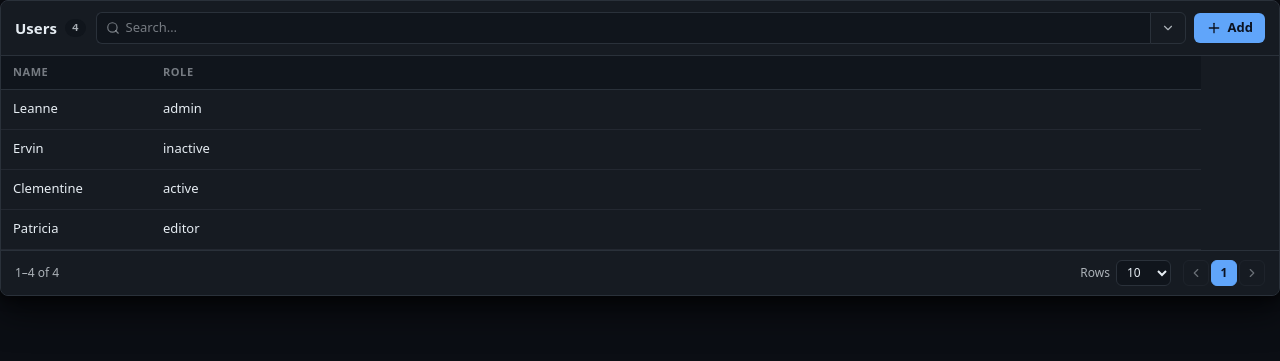
Test case: DataGrid › empty state comes from the filtered model › distinguishes no-results from no-data and offers a way back
Expected: the text "Leanne" is shown, [13,99,58,117]
Type "zzz-nothing" into the search field labelled "Search…".
click(633, 28); type("zzz-nothing")  # box [126,16,1140,40]
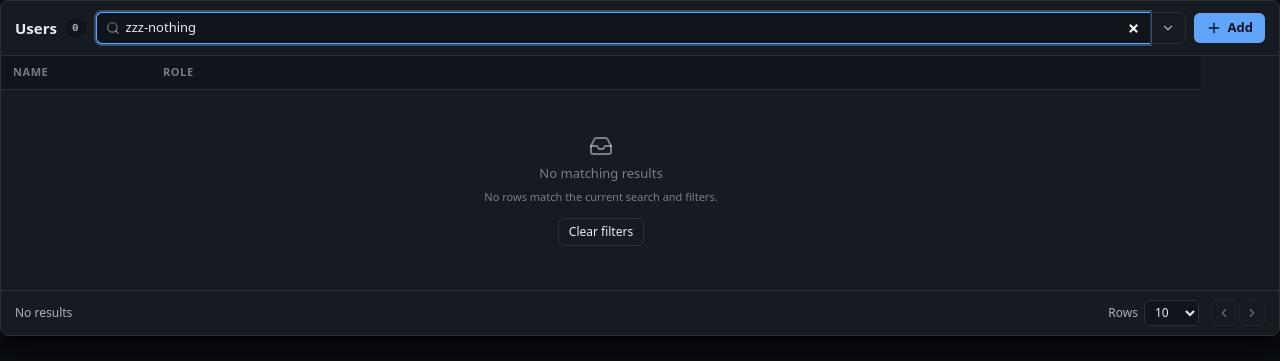
Expected: the text "No matching results" is shown, [539,164,663,183]
Expected: the button "Clear filters" is shown
Click the button "Clear filters".
click(601, 232)  # box [558,218,644,246]
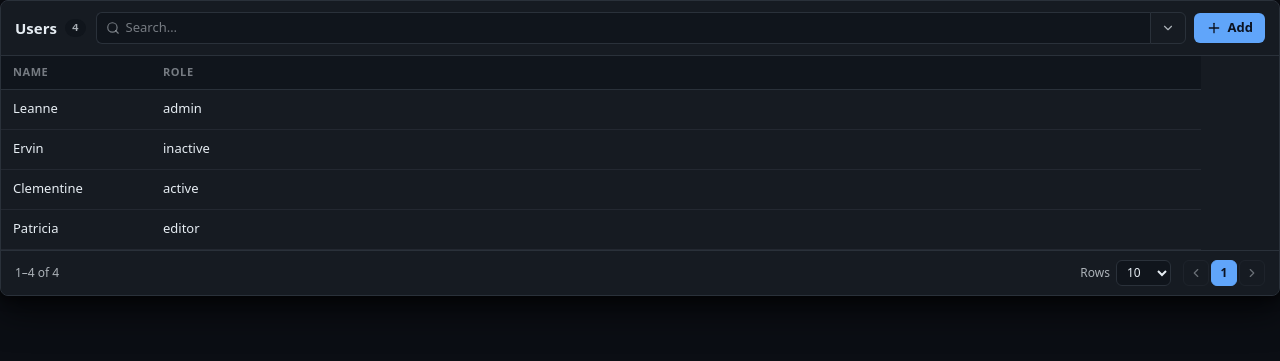
Expected: the text "Leanne" is shown, [13,99,58,117]
